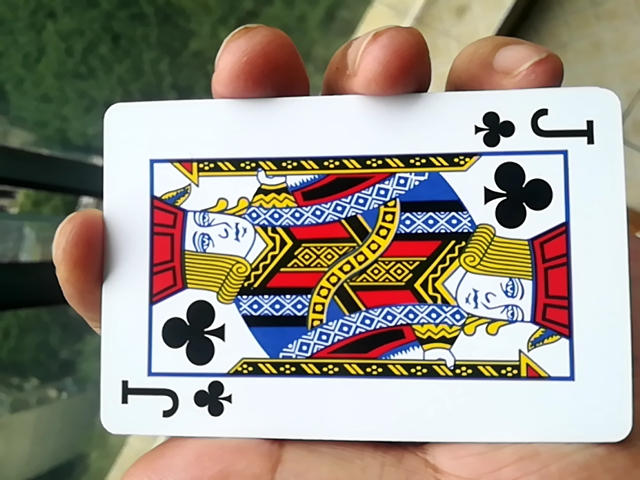mh j: (69, 106, 622, 455)
